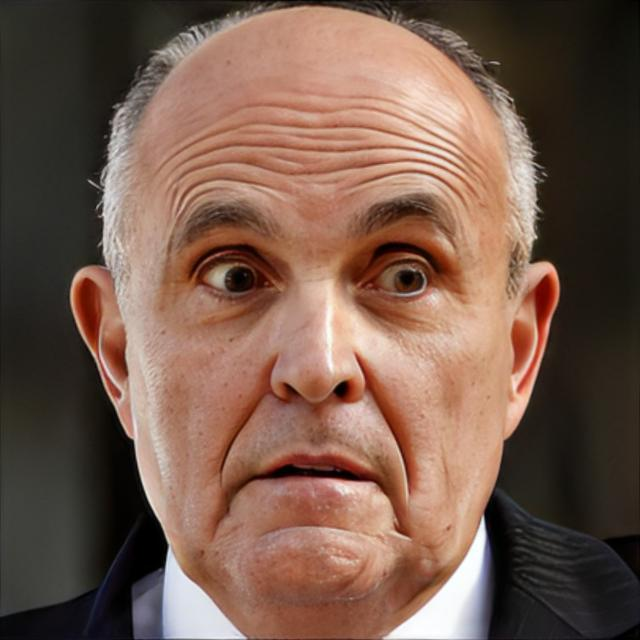Fear: (126, 56, 512, 606)
